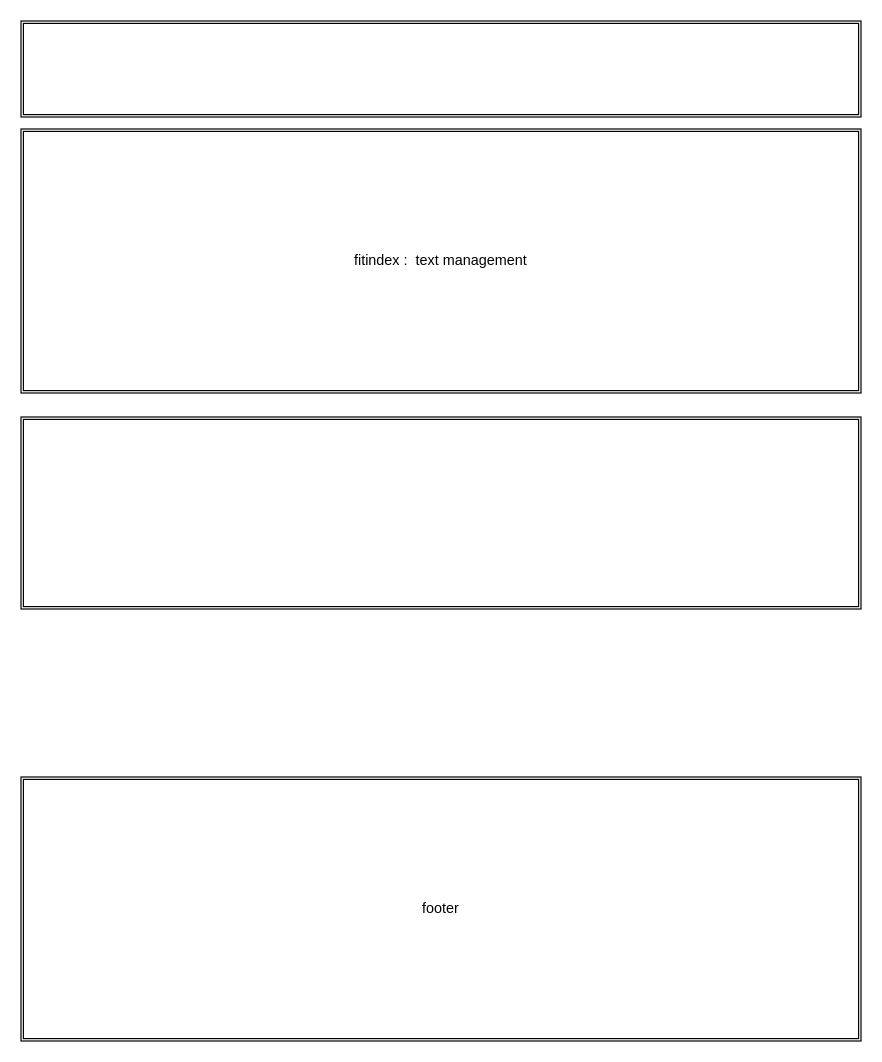
This 882x1062 diagram has some shape labels left out. The centre of each missing label's shape, as x and y in pixels:
Header: the point at 440,68
staisfied client: the point at 440,512
